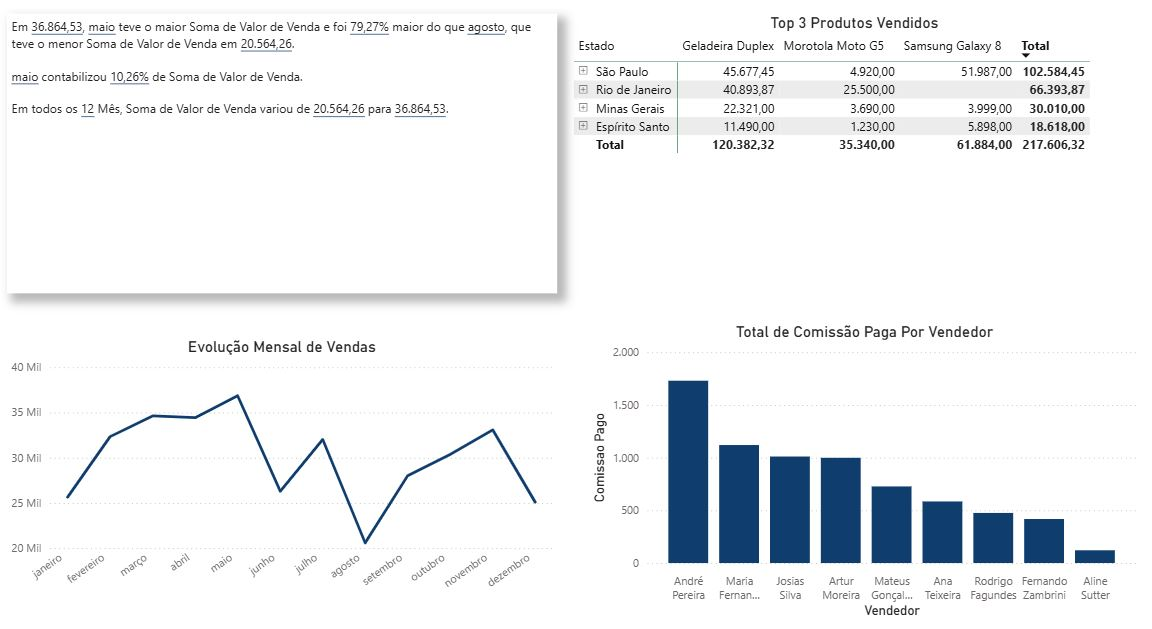

Layout of this report page (visuals, bound fields, positions):
{"tool":"powerbi","page":{"name":"Performance de Vendas e Comissões","canvas":[1280,720],"ordinal":5},"visuals":[{"type":"columnChart","title":"Total de Comissão Paga Por Vendedor","fields":{"Y":["Vendas.Comissao Pago"],"Category":["Vendas.Vendedor"]},"box":[660,369.1,606.5,329.3],"z":0},{"type":"pivotTable","title":"Top 3 Produtos Vendidos","fields":{"Rows":["Vendas.Estado","Vendas.Cidade","Vendas.Segmento"],"Values":["Sum(Vendas.ValorVenda)"],"Columns":["Vendas.Produto"]},"box":[639.5,30.2,625.7,307.4],"z":1000},{"type":"lineChart","title":"Evolução Mensal de Vendas","fields":{"Category":["Vendas.Data Venda.Variation.Hierarquia de datas.Mês"],"Y":["Sum(Vendas.ValorVenda)"]},"box":[22,385.6,603.8,297.8],"z":2000},{"type":"textbox","box":[22,30.2,603.8,307.4],"z":3000}]}

Visuals, with their boxes on the page's 1280x720 design canvas (x1, y1, x2, y2). These are canvas units, not pixel positions in the 1152x629 screenshot, which may show the page scaled, cropped or inside an application window:
"Total de Comissão Paga Por Vendedor" columnChart: (660,369,1266,698)
"Top 3 Produtos Vendidos" pivotTable: (640,30,1265,338)
"Evolução Mensal de Vendas" lineChart: (22,386,626,683)
textbox: (22,30,626,338)
